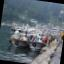fishing boat: (8, 29, 31, 50), (26, 32, 48, 53)
